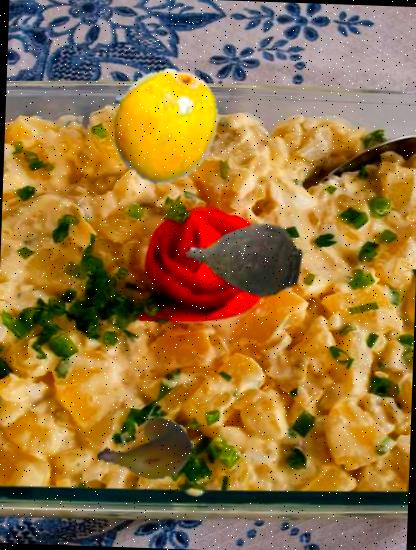Banana: (96, 398, 194, 496)
Beetroot: (182, 194, 306, 320)
Maracuja: (104, 66, 225, 188)
